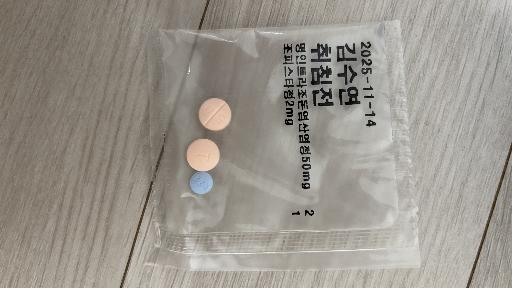Trazodone HCl: (199, 98, 231, 131), (187, 139, 220, 171)
Zopista: (190, 172, 213, 194)
vinyl: (148, 21, 420, 270)
